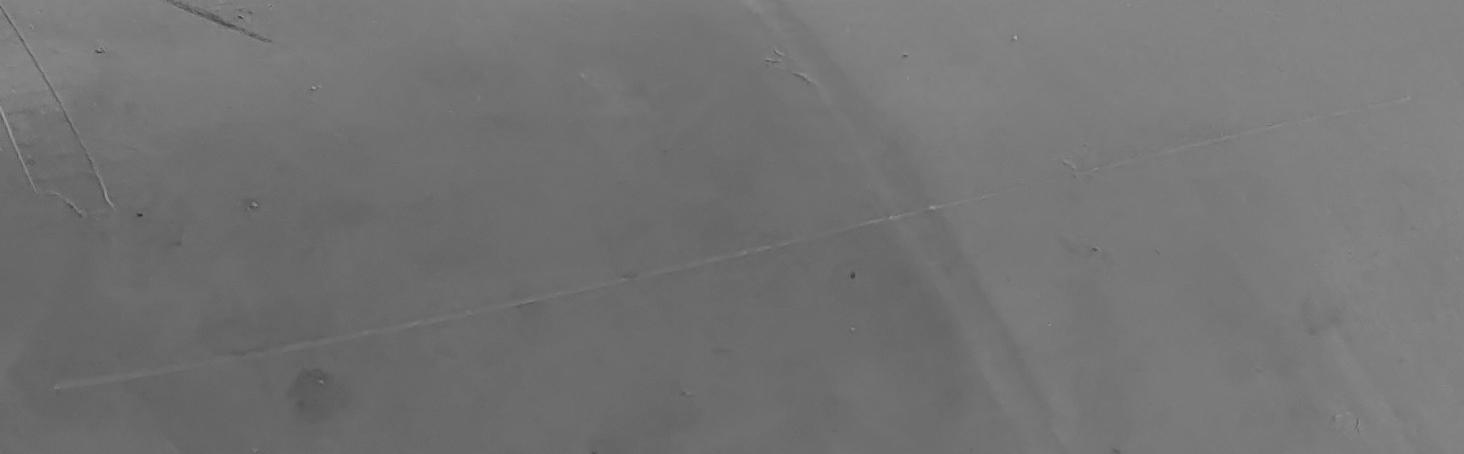scratch: (0, 1, 1464, 454)
